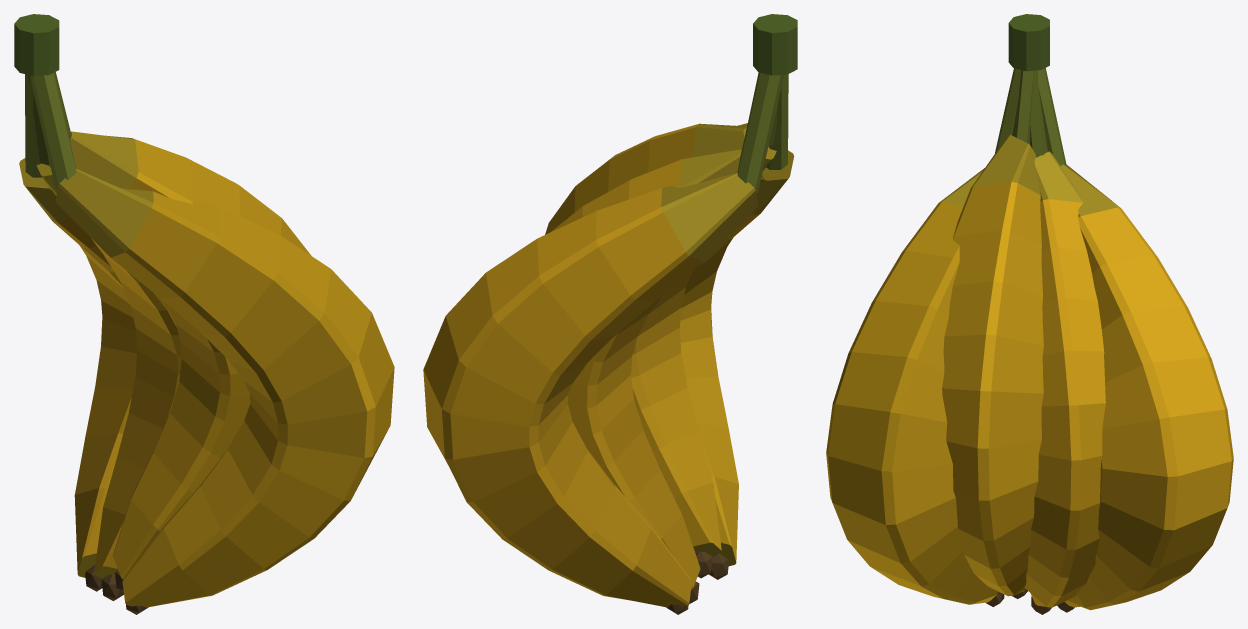
Rendered from bananaC.glb.
3 views of the same model, side by side, from view 1: azimuth 30°, elevation 25°; view 2: azimuth 150°, elevation 25°; view 3: azimuth 270°, elevation 25° (orthographic). The views are drawn at different scales.
Parts seen in each view (by area): view 1: BananaMesh.003; view 2: BananaMesh.003; view 3: BananaMesh.003.
Boxes of the visible parts, box(x1,y1,x2,y2) form: BananaMesh.003: box(14, 14, 394, 614); BananaMesh.003: box(423, 14, 797, 614); BananaMesh.003: box(826, 14, 1233, 614).
Bounding box in the file's own units: 0.3407 × 0.6593 × 0.4389.
